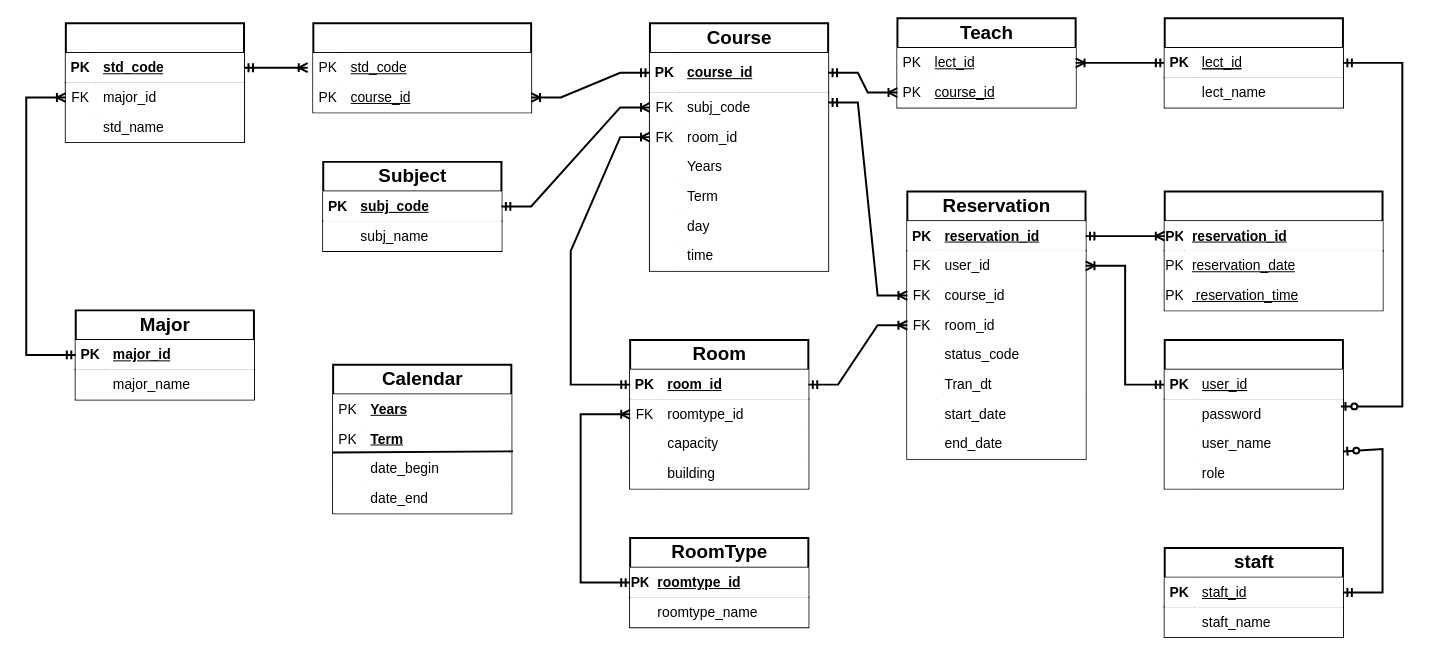
This 1429x654 diagram has some shape labels left out. The shapes that lost their labels are listed below. From the top down, each one's box as (x1, y1, x2, y2) in pixels, then its label:
(64, 22, 245, 143): Student
(312, 22, 532, 113): STD_REG_COURSE
(1163, 17, 1343, 108): Lecturer
(1163, 190, 1383, 311): Reservation_detail
(1163, 339, 1343, 489): Users
